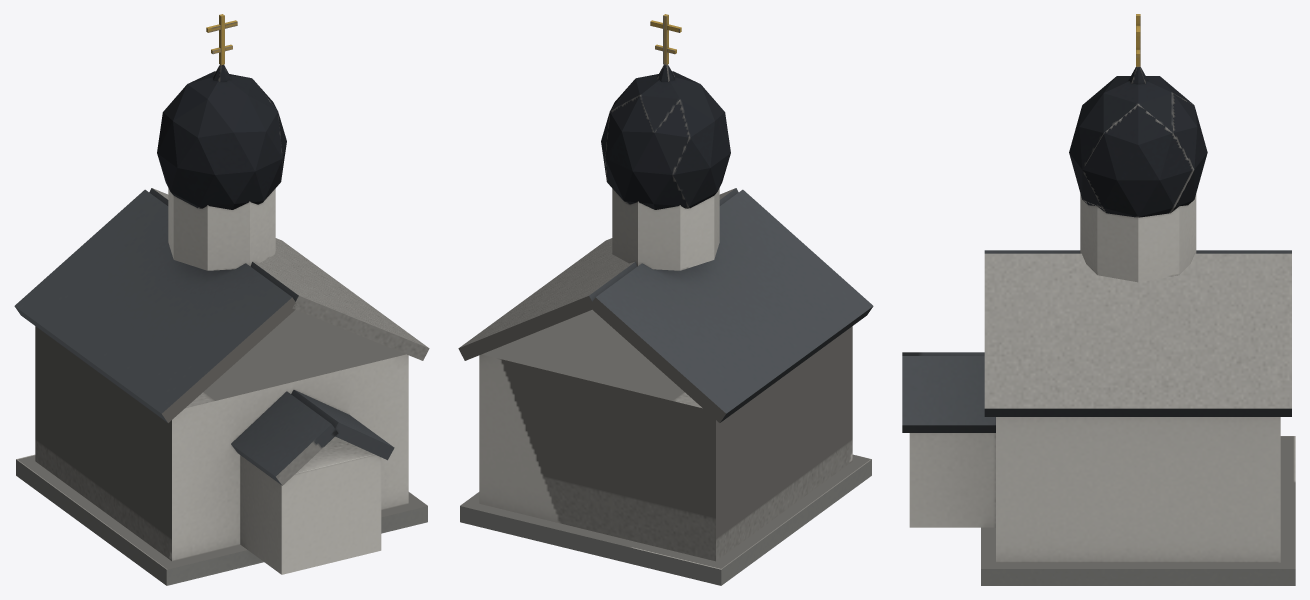
File: BLD_church.fbx
3 views of the same model, side by side, from view 1: azimuth 30°, elevation 25°; view 2: azimuth 150°, elevation 25°; view 3: azimuth 270°, elevation 25° (orthographic). The views are drawn at different scales.
Visible parts, largest first — view 1: BLD_church; view 2: BLD_church; view 3: BLD_church.
Part boxes in pixels (box(x1,y1,x2,y2)): BLD_church: box(14, 14, 429, 585); BLD_church: box(458, 14, 873, 585); BLD_church: box(902, 14, 1295, 585).
Size of the model in its own units: 86.11 by 149 by 105.
